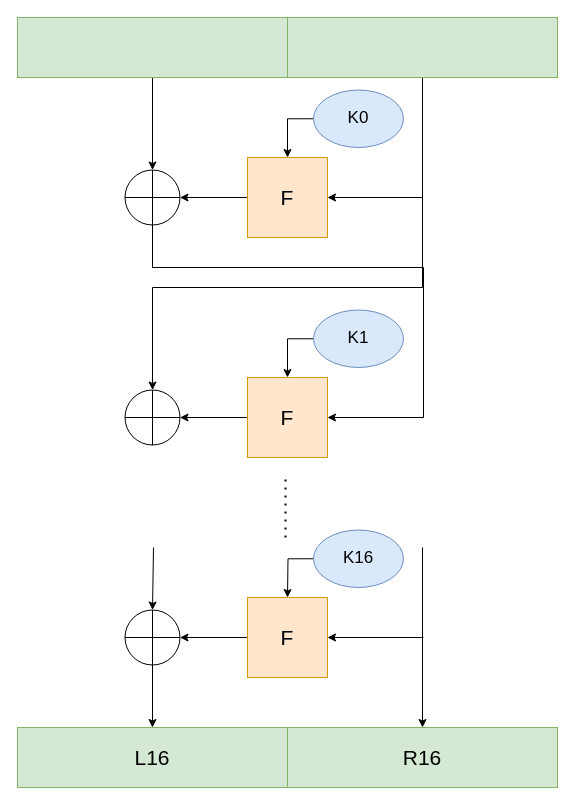
Image size: 575x805. Some labels were removed from this diagram. Here are the shapes that lost their labels. From the top down, the centre of each, then its label:
At [152,47]: "L0".
At [422,47]: "R0".
